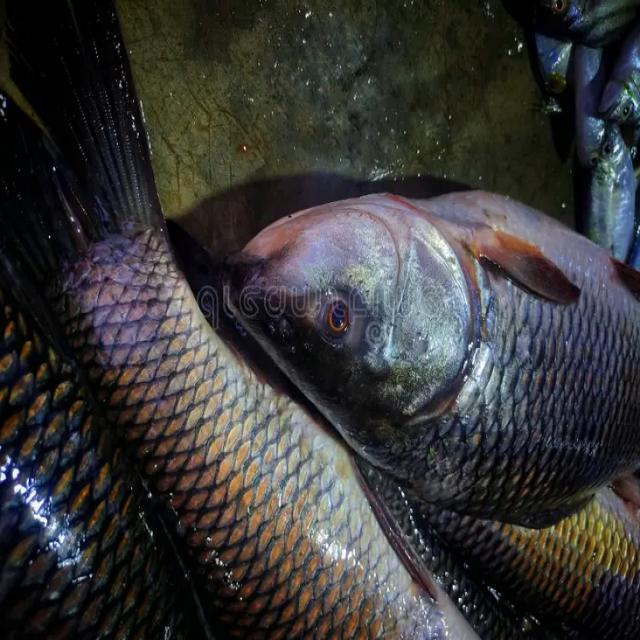Rohu: (220, 184, 640, 530)
